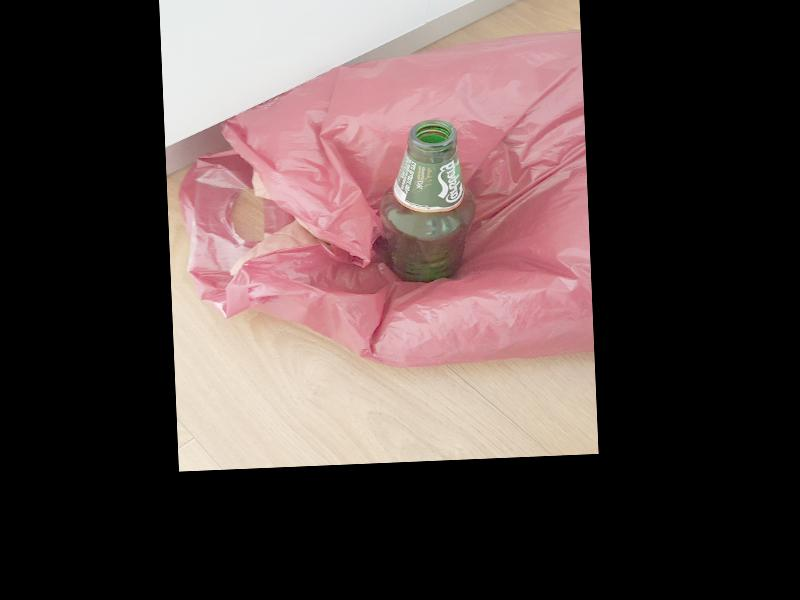Beer: (376, 120, 477, 285)
